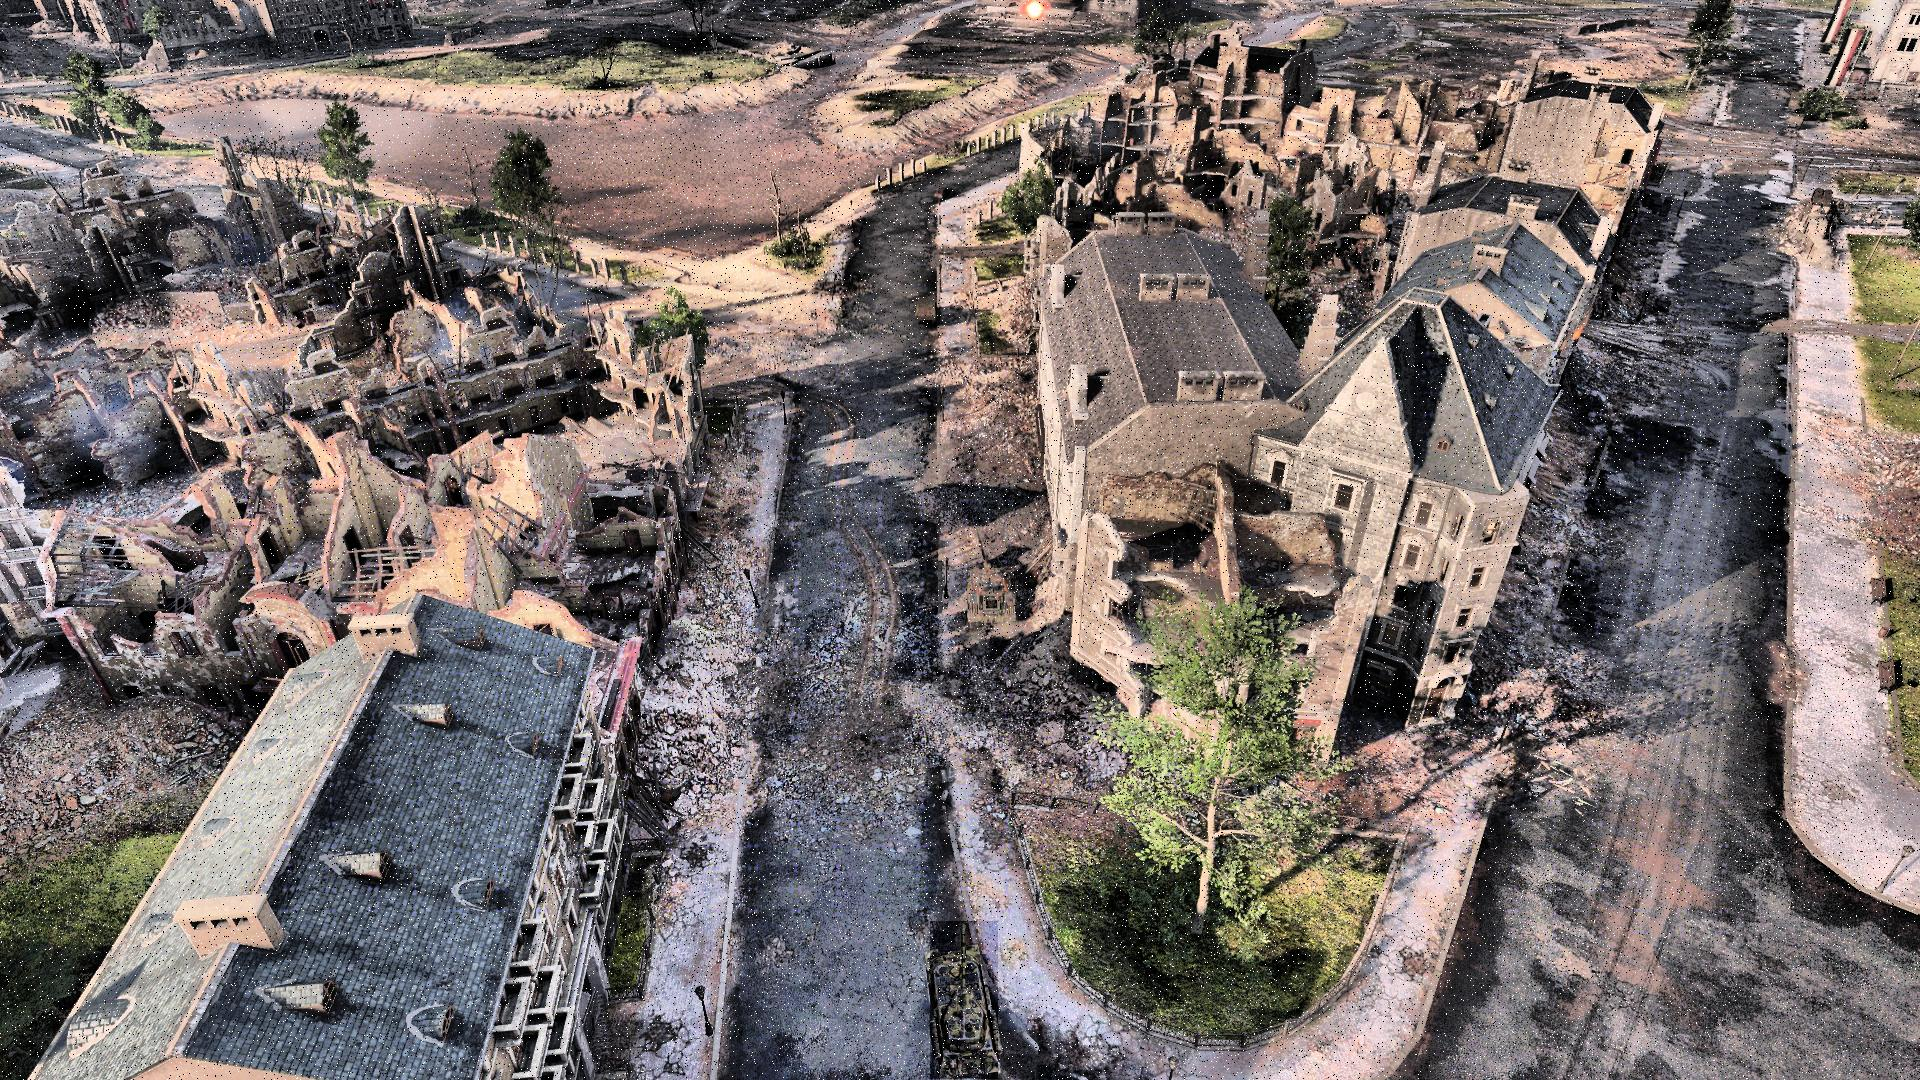military-vehicle: (930, 922, 998, 1080)
